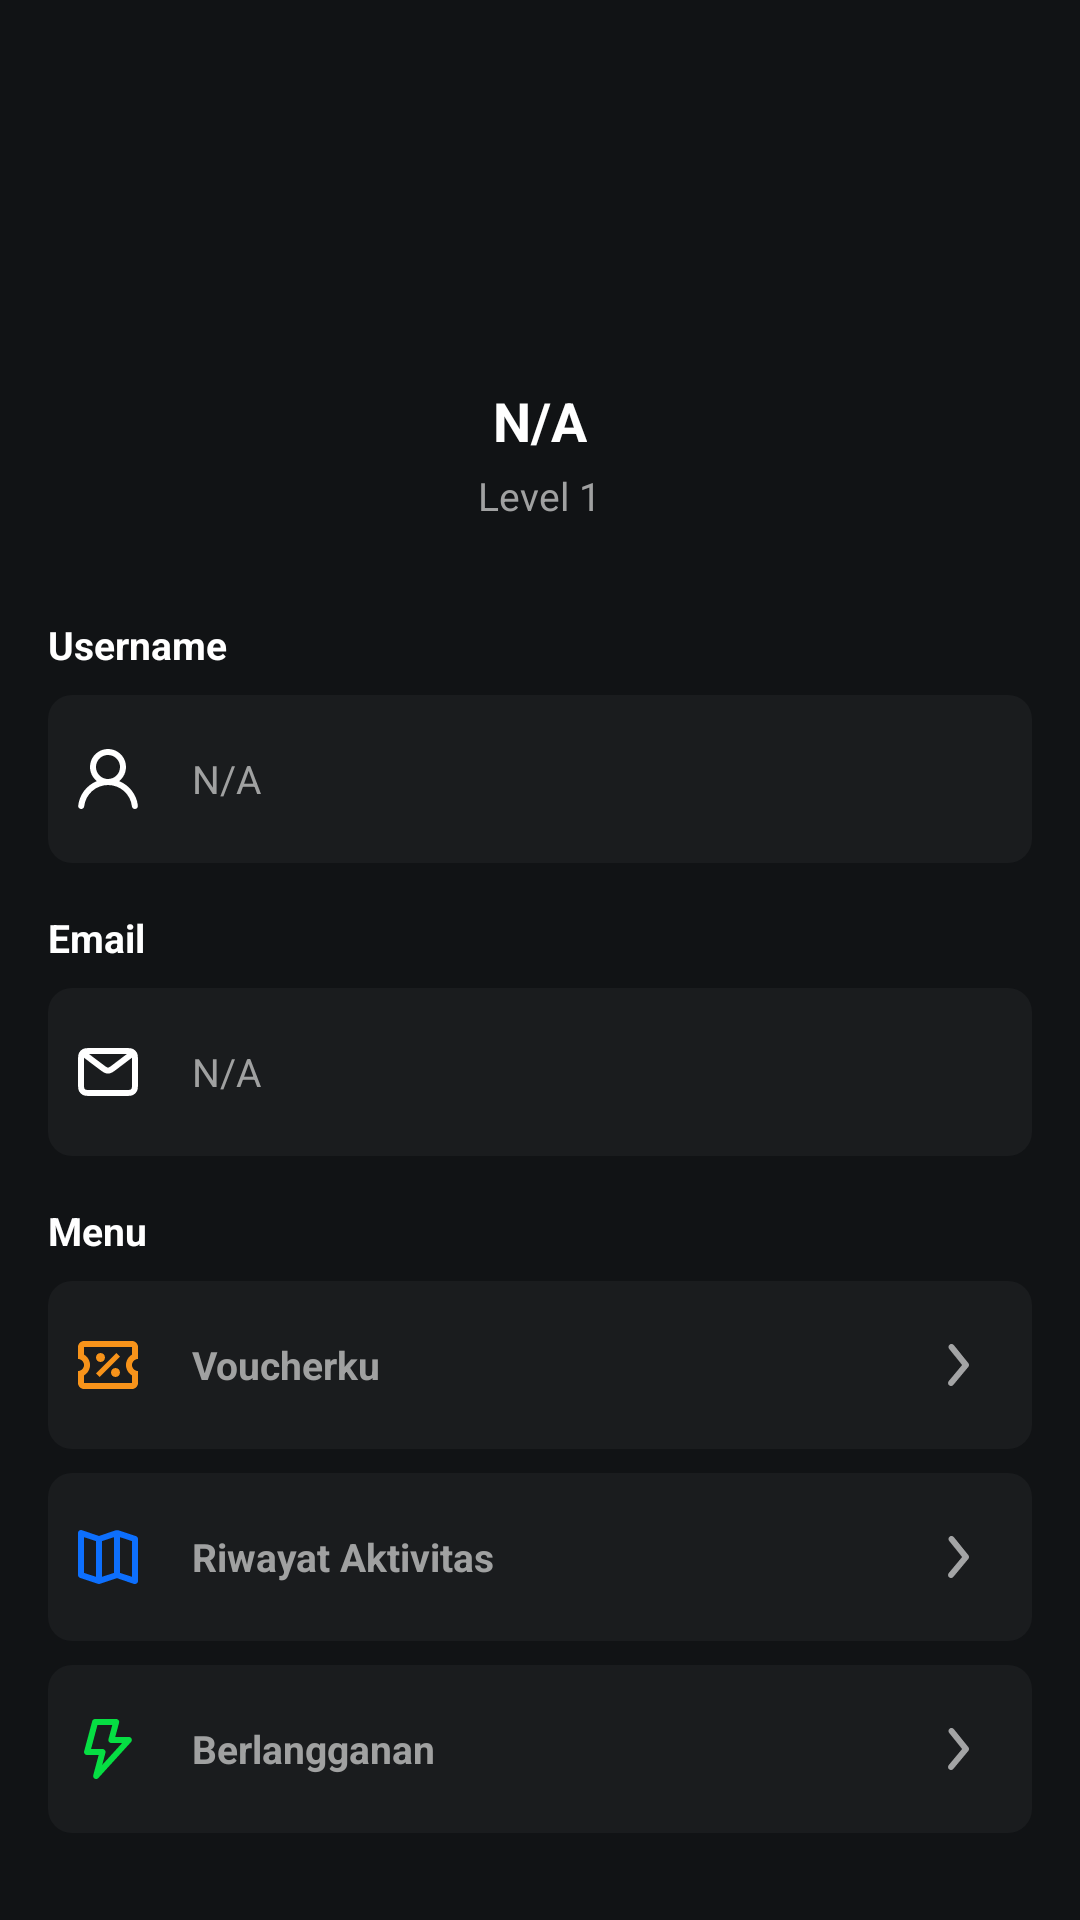

Screen size 1080px×1920px. Icon name, then its box in pixels as (x1, y1, x2, y2):
arrow right: (948, 1344, 969, 1386), (948, 1536, 969, 1578), (948, 1728, 969, 1770)
bolt: (84, 1719, 132, 1779)
